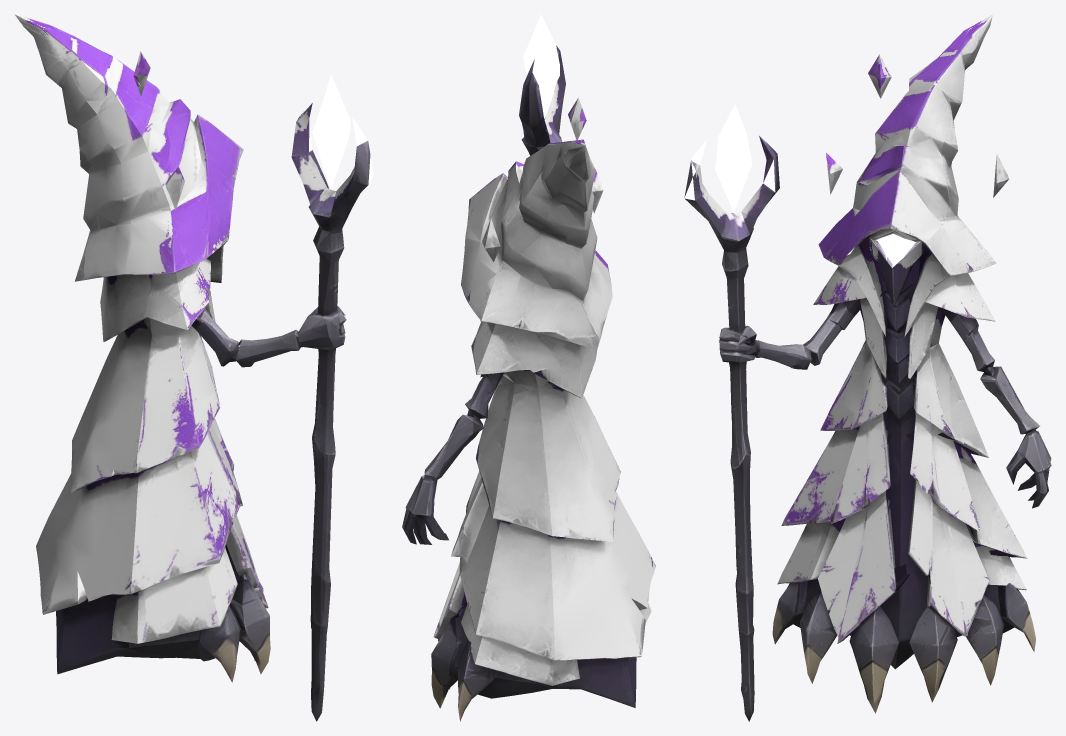
The model's file is arc_caster.glb.
The picture shows the model from 3 angles, left to right: view 1: azimuth 30°, elevation 25°; view 2: azimuth 150°, elevation 25°; view 3: azimuth 270°, elevation 25°; orthographic projection. The views are drawn at different scales.
Parts seen in each view (by area): view 1: hood, hem_u, hem_l, torso, staff, arm_r; view 2: hem_u, hood, hem_l, torso, staff, arm_l_l, arm_l_u, shard_2, shard_0; view 3: hem_u, hood, hem_l, torso, staff, arm_l_l, arm_r, arm_l_u.
Part boxes in pixels (left/top/right/bottom): hood: left=14, top=14, right=243, bottom=288; hem_u: left=48, top=385, right=250, bottom=594; hem_l: left=36, top=518, right=270, bottom=682; torso: left=74, top=258, right=222, bottom=443; staff: left=291, top=74, right=373, bottom=721; arm_r: left=191, top=308, right=300, bottom=367; hem_u: left=449, top=444, right=655, bottom=624; hood: left=461, top=139, right=612, bottom=348; hem_l: left=431, top=566, right=653, bottom=721; torso: left=471, top=320, right=607, bottom=491; staff: left=519, top=14, right=565, bottom=155; arm_l_l: left=402, top=429, right=472, bottom=544; arm_l_u: left=444, top=372, right=504, bottom=462; shard_2: left=568, top=97, right=586, bottom=140; shard_0: left=482, top=218, right=500, bottom=261; hem_u: left=781, top=410, right=1021, bottom=591; hood: left=818, top=14, right=996, bottom=309; hem_l: left=772, top=543, right=1035, bottom=713; torso: left=813, top=274, right=995, bottom=447; staff: left=684, top=104, right=779, bottom=721; arm_l_l: left=995, top=378, right=1051, bottom=508; arm_r: left=750, top=301, right=861, bottom=369; arm_l_u: left=948, top=310, right=1008, bottom=399.
Bounding box in the file's own units: 0.6098 × 1.75 × 0.9296.
3 materials, 3 textured.
